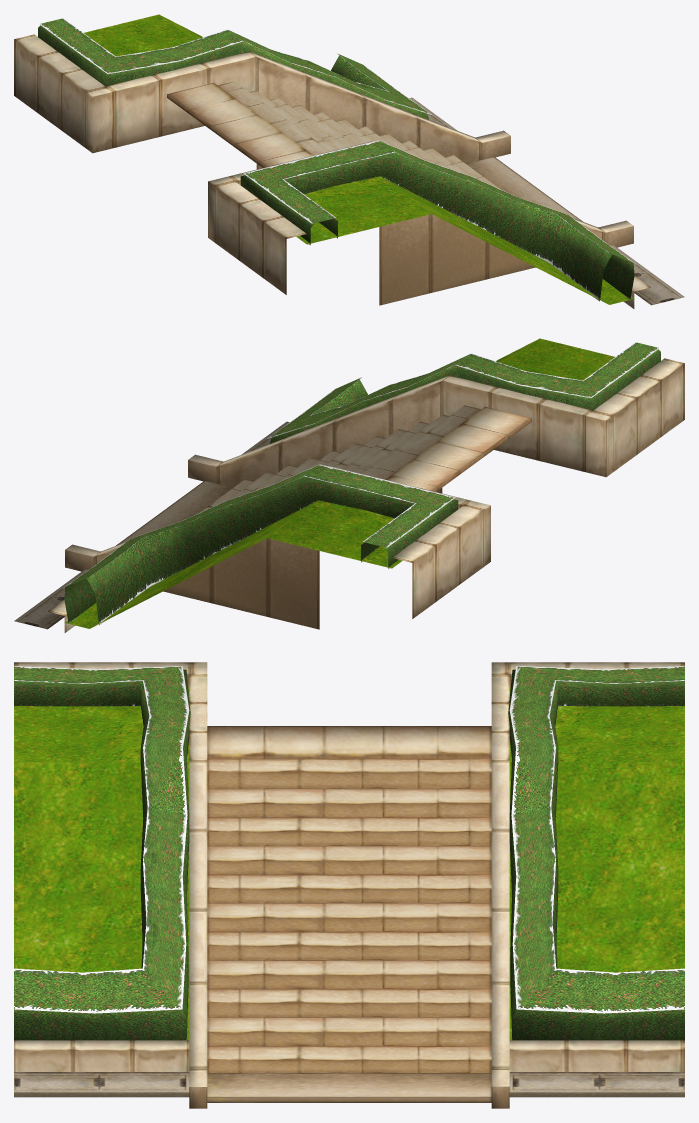
Rendered from a_SWEstair01.glb.
3 views of the same model, one above another, from view 1: azimuth 30°, elevation 25°; view 2: azimuth 150°, elevation 25°; view 3: azimuth 270°, elevation 25° (orthographic). The views are drawn at different scales.
Parts seen in each view (by area): view 1: a_SWEstair01; view 2: a_SWEstair01; view 3: a_SWEstair01.
Part boxes in pixels (bbox=[...]): a_SWEstair01: bbox=[14, 14, 684, 308]; a_SWEstair01: bbox=[14, 338, 684, 632]; a_SWEstair01: bbox=[14, 662, 684, 1108].
Size of the model in its own units: 6.22 by 2.43 by 7.
Materials: 5 (5 with a texture image).
